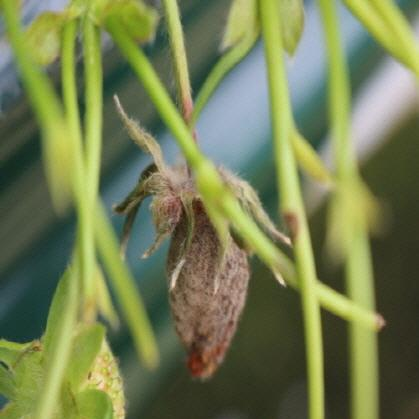Gray Mold: (111, 95, 293, 382)
